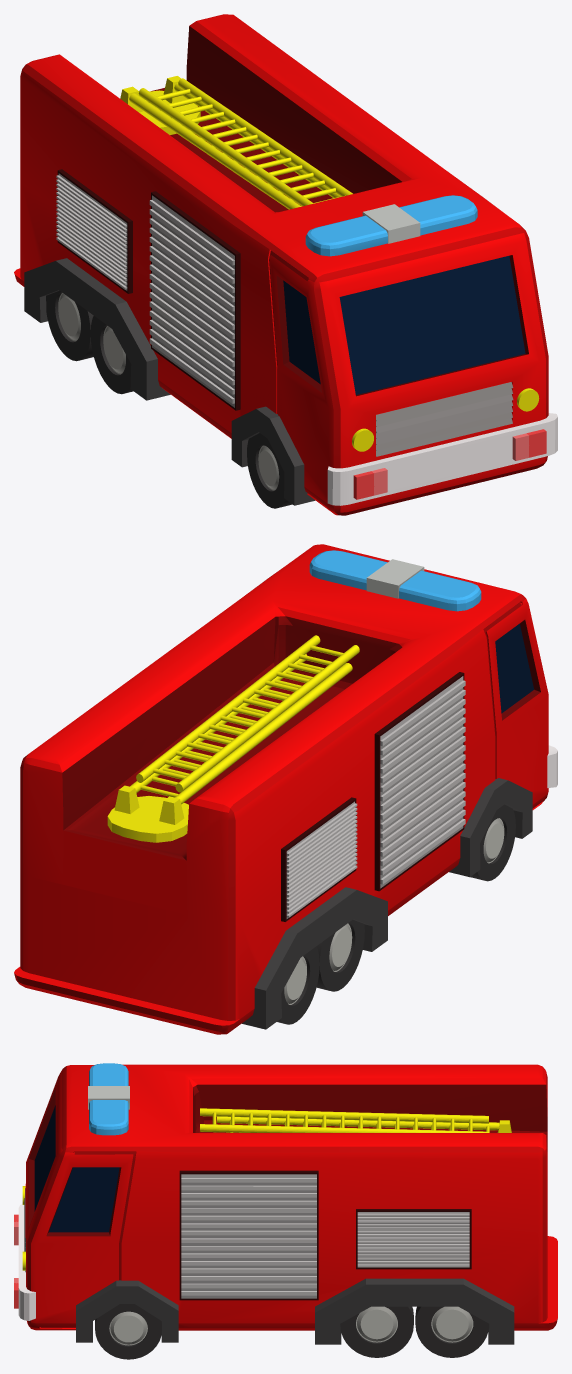
Rendered from kapalimerdivenitfaye.fbx.
The picture shows the model from 3 angles, top to bottom: view 1: azimuth 30°, elevation 25°; view 2: azimuth 150°, elevation 25°; view 3: azimuth 270°, elevation 25°; orthographic projection. The views are drawn at different scales.
Visible parts, largest first — view 1: Cylinder.027; view 2: Cylinder.027; view 3: Cylinder.027.
Part boxes in pixels (x1=…): Cylinder.027: x1=14, y1=14, x2=557, y2=515; Cylinder.027: x1=14, y1=544, x2=557, y2=1034; Cylinder.027: x1=14, y1=1063, x2=557, y2=1359.
Bounding box in the file's own units: 1316 × 3090 × 1382.
